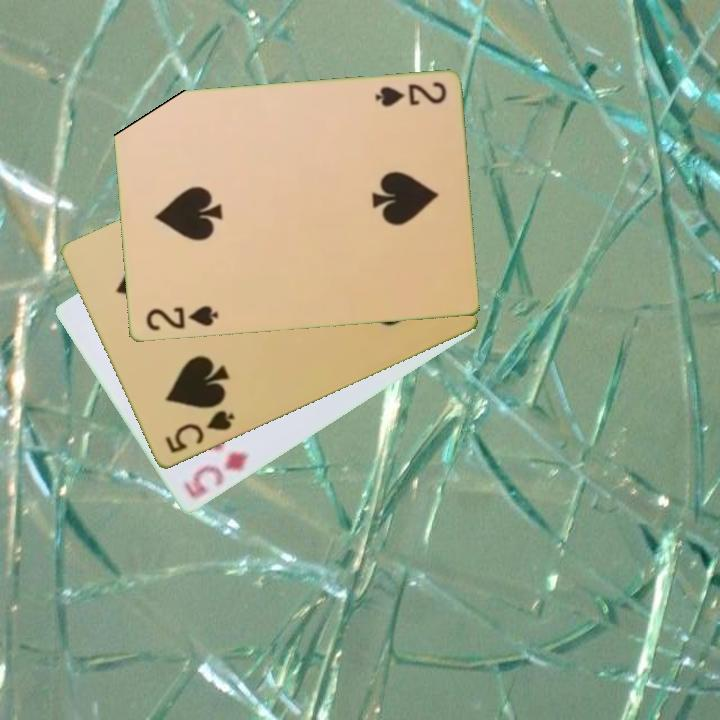2s: (142, 302, 221, 334), (371, 79, 449, 110)
5d: (180, 448, 252, 503)
5s: (161, 407, 238, 457)
